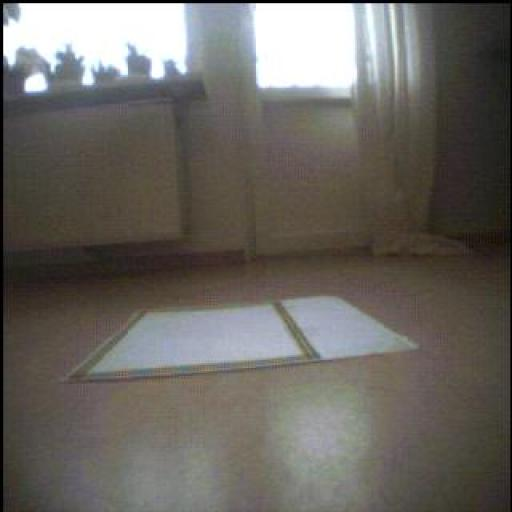Pad: (68, 297, 417, 382)
